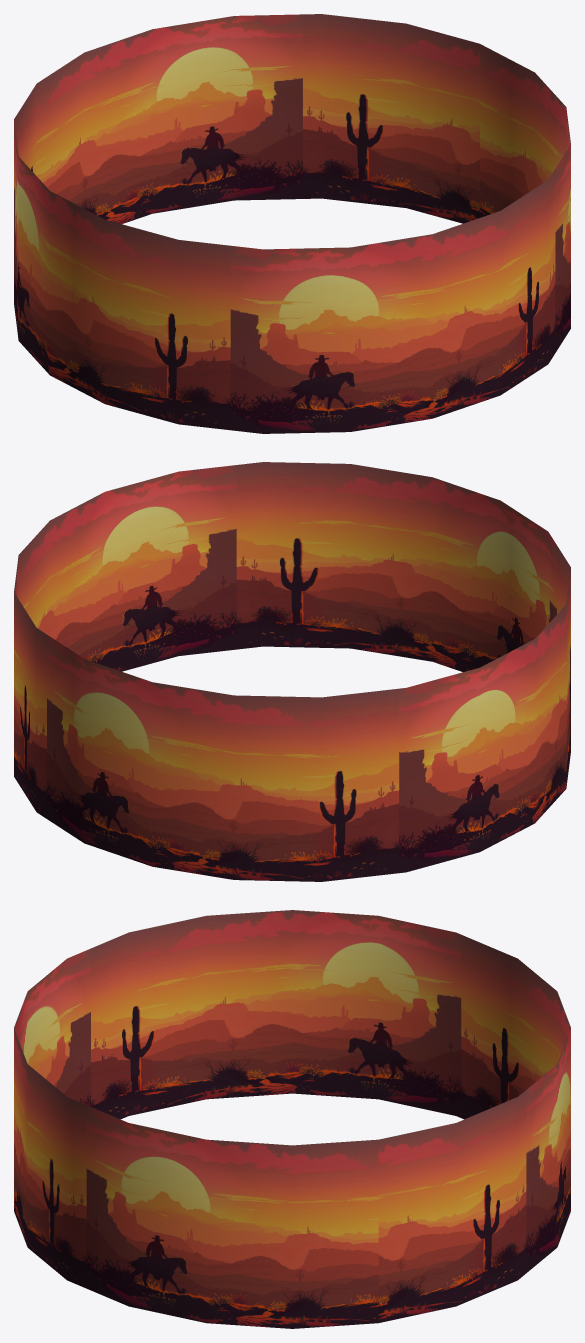
The model's file is Sky_Ring.fbx.
3 views of the same model, one above another, from view 1: azimuth 30°, elevation 25°; view 2: azimuth 150°, elevation 25°; view 3: azimuth 270°, elevation 25° (orthographic).
Parts seen in each view (by area): view 1: sky_ring; view 2: sky_ring; view 3: sky_ring.
Part boxes in pixels (<box>): sky_ring: <box>14,14,570,433</box>; sky_ring: <box>14,462,570,881</box>; sky_ring: <box>14,910,570,1328</box>.
Bounding box in the file's own units: 804 × 292 × 804.
1 material, 1 textured.
